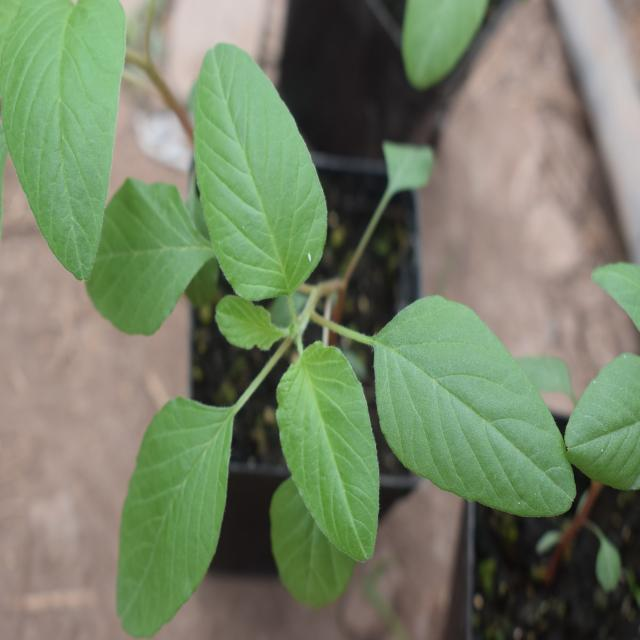pigweed: (108, 71, 564, 587)
